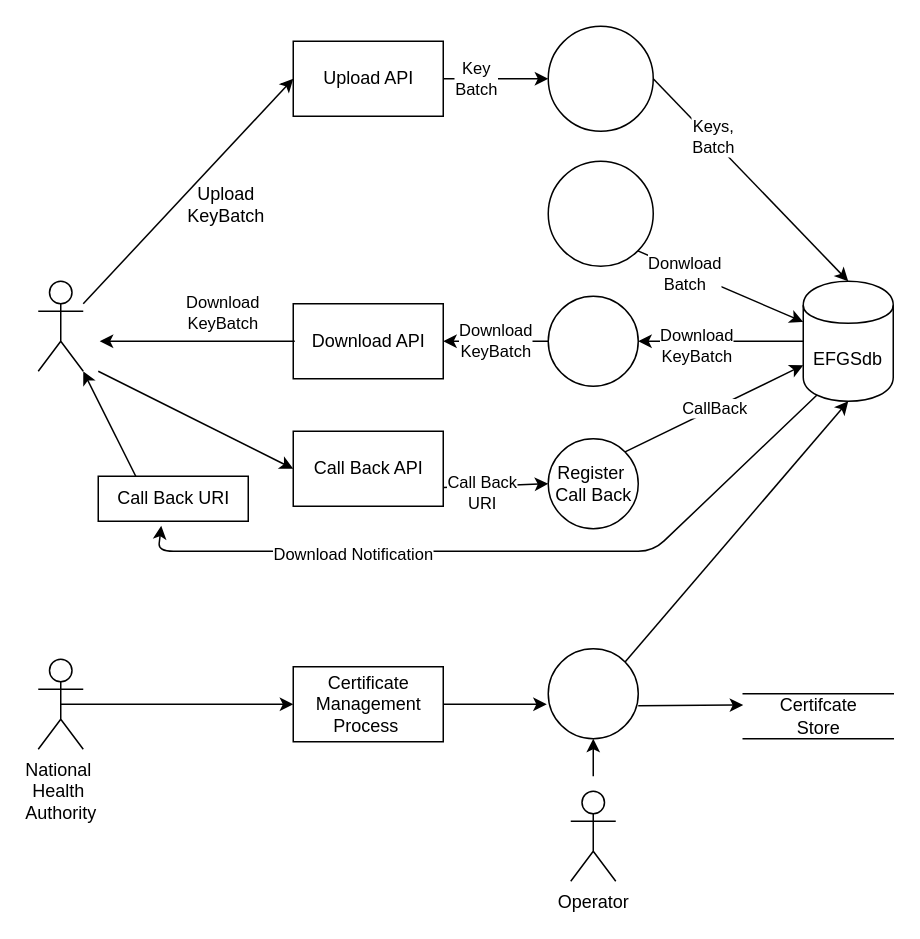
Image size: 920x939. Some labels were removed from this diagram. The shapes that lost their labels are listed below. From the top down, each one's centre as x and y in pixels, then its label:
At (x=600, y=78): "Key Batch Verification".
At (x=600, y=213): "Download Batch Creation".
At (x=60, y=325): "National Corona Backend".
At (x=592, y=340): "Obtain Batch".
At (x=592, y=693): "Certificate Management".
